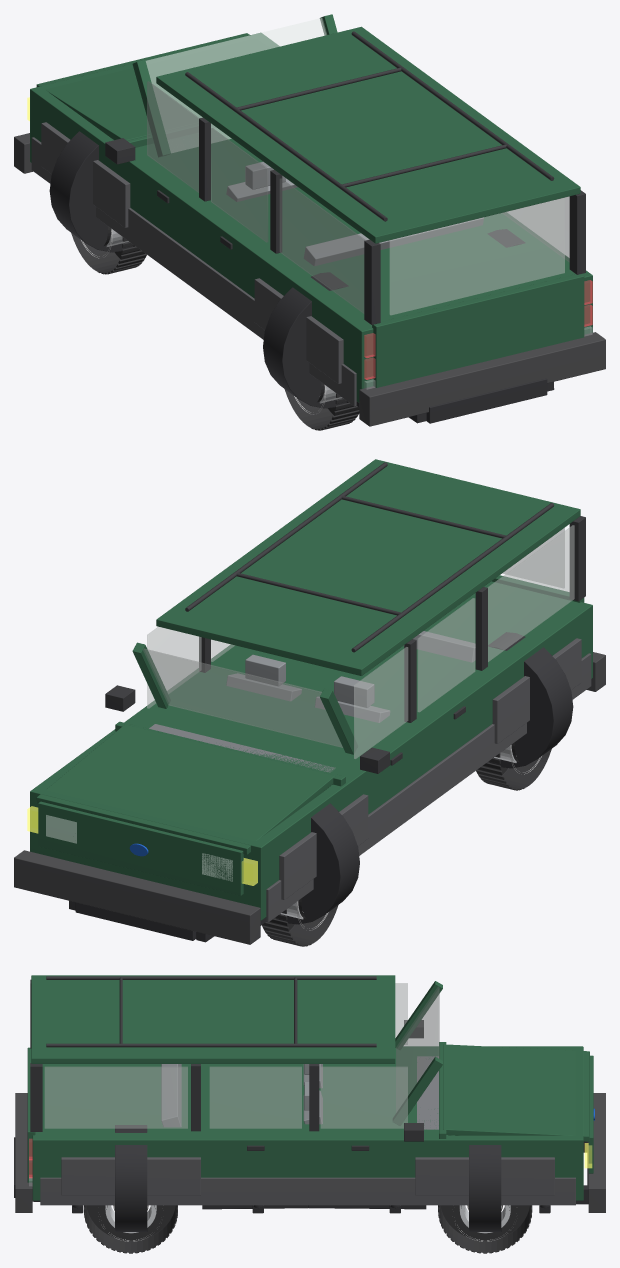
Rendered from Car_Ford_Explorer_1990s_Complete.glb.
3 renders of one model, top to bottom at view 1: azimuth 30°, elevation 25°; view 2: azimuth 150°, elevation 25°; view 3: azimuth 270°, elevation 25°, orthographic. The views are drawn at different scales.
Parts seen in each view (by area): view 1: BODY_Explorer_Roof_Panel, BODY_Explorer_Main_Bodyshell, GLASS_Explorer_Privacy_Windows, BODY_Explorer_Rear_Liftgate, BODY_Explorer_Charcoal_Lower_Cladding, BODY_Explorer_Inner_Wheel_Tubs, EXTERIOR_Rear_Integrated_Bumper, BODY_Explorer_Contoured_Hood, BODY_Explorer_Blackout_Pillars, EXTERIOR_Aerodynamic_Roof_Rack, INTERIOR_Family_Cloth_Seats, CHASSIS_Boxed_Ladder_Frame (+6 smaller); view 2: BODY_Explorer_Main_Bodyshell, BODY_Explorer_Roof_Panel, GLASS_Explorer_Privacy_Windows, BODY_Explorer_Contoured_Hood, BODY_Explorer_Charcoal_Lower_Cladding, EXTERIOR_Front_Integrated_Bumper, EXTERIOR_Egg_Crate_Grille, BODY_Explorer_Inner_Wheel_Tubs, INTERIOR_Family_Cloth_Seats, EXTERIOR_Aerodynamic_Roof_Rack, BODY_Explorer_Blackout_Pillars, BODY_Explorer_APillars (+8 smaller); view 3: BODY_Explorer_Main_Bodyshell, BODY_Explorer_Roof_Panel, GLASS_Explorer_Privacy_Windows, BODY_Explorer_Charcoal_Lower_Cladding, BODY_Explorer_Contoured_Hood, BODY_Explorer_Inner_Wheel_Tubs, EXTERIOR_Aerodynamic_Roof_Rack, WHEEL_FR_Wrangler_Tire, WHEEL_RR_Wrangler_Tire, BODY_Explorer_Blackout_Pillars, INTERIOR_Family_Cloth_Seats, BODY_Explorer_APillars (+7 smaller).
Part boxes in pixels (x1,y1,x2,y2): BODY_Explorer_Roof_Panel: (156,26,580,243); BODY_Explorer_Main_Bodyshell: (30,32,592,402); GLASS_Explorer_Privacy_Windows: (146,18,569,315); BODY_Explorer_Rear_Liftgate: (372,274,584,387); BODY_Explorer_Charcoal_Lower_Cladding: (31,122,356,406); BODY_Explorer_Inner_Wheel_Tubs: (49,131,525,408); EXTERIOR_Rear_Integrated_Bumper: (359,332,605,426); BODY_Explorer_Contoured_Hood: (36,33,270,140); BODY_Explorer_Blackout_Pillars: (199,117,585,324); EXTERIOR_Aerodynamic_Roof_Rack: (185,31,554,221); INTERIOR_Family_Cloth_Seats: (226,161,483,266); CHASSIS_Boxed_Ladder_Frame: (356,378,554,423); BODY_Explorer_Main_Bodyshell: (30,581,592,920); BODY_Explorer_Roof_Panel: (156,459,580,675); GLASS_Explorer_Privacy_Windows: (143,525,574,758); BODY_Explorer_Contoured_Hood: (36,724,335,854); BODY_Explorer_Charcoal_Lower_Cladding: (266,638,591,922); EXTERIOR_Front_Integrated_Bumper: (14,850,260,944); EXTERIOR_Egg_Crate_Grille: (38,801,243,895); BODY_Explorer_Inner_Wheel_Tubs: (276,632,573,924); INTERIOR_Family_Cloth_Seats: (226,631,475,722); EXTERIOR_Aerodynamic_Roof_Rack: (185,462,554,652); BODY_Explorer_Blackout_Pillars: (199,516,585,722); BODY_Explorer_APillars: (132,642,357,754); BODY_Explorer_Main_Bodyshell: (32,1042,583,1200); BODY_Explorer_Roof_Panel: (31,975,395,1063); GLASS_Explorer_Privacy_Windows: (44,983,439,1128); BODY_Explorer_Charcoal_Lower_Cladding: (40,1157,575,1205); BODY_Explorer_Contoured_Hood: (443,1044,589,1141); BODY_Explorer_Inner_Wheel_Tubs: (115,1125,501,1231); EXTERIOR_Aerodynamic_Roof_Rack: (46,976,376,1047); WHEEL_FR_Wrangler_Tire: (438,1205,532,1253); WHEEL_RR_Wrangler_Tire: (84,1205,177,1253); BODY_Explorer_Blackout_Pillars: (30,979,319,1131); INTERIOR_Family_Cloth_Seats: (161,1064,322,1127); BODY_Explorer_APillars: (392,981,442,1125).
Bounding box in the file's own units: 2.24 × 1.76 × 4.75.
